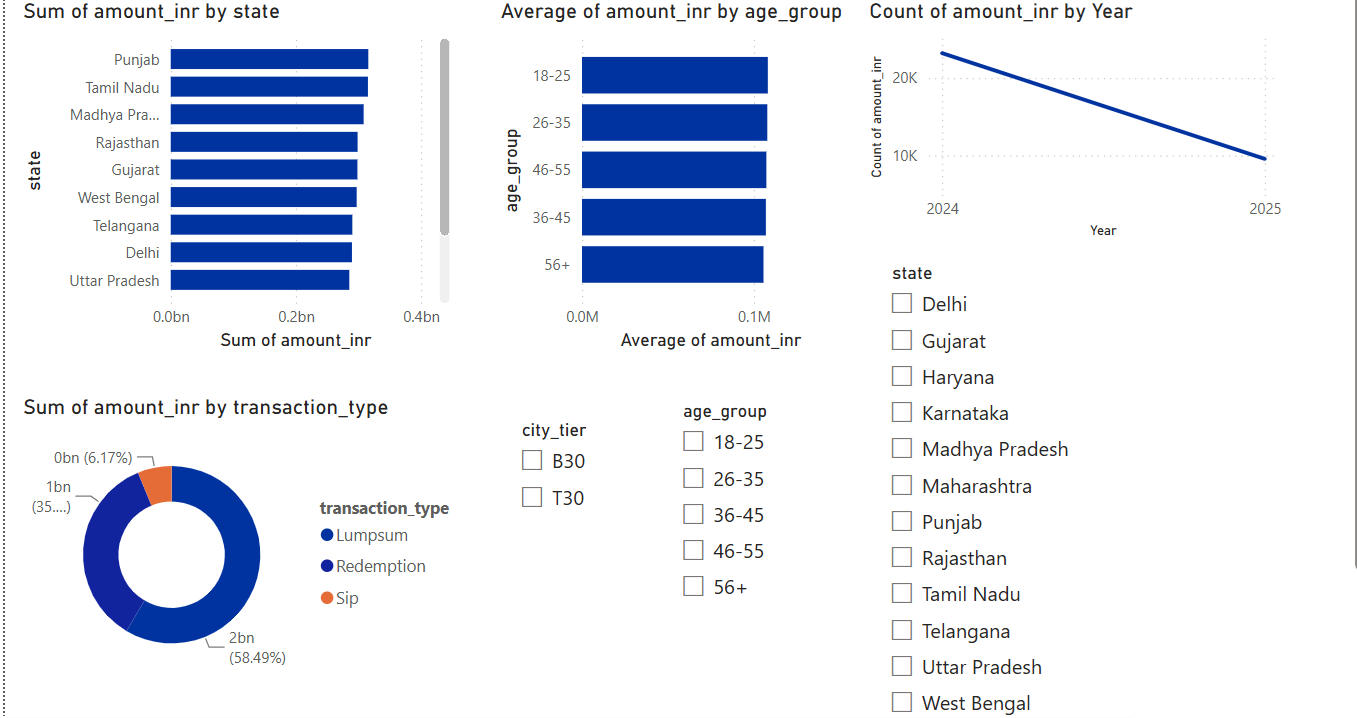

The page's visual inventory and layout, read from the dashboard file:
{"tool":"powerbi","page":{"name":"Investor Analytics","canvas":[1280,720],"ordinal":2},"visuals":[{"type":"clusteredBarChart","fields":{"Category":["investor_transactions_clean.state"],"Y":["Sum(investor_transactions_clean.amount_inr)"]},"box":[10,0,280,280],"z":0},{"type":"donutChart","fields":{"Category":["investor_transactions_clean.transaction_type"],"Y":["Sum(investor_transactions_clean.amount_inr)"]},"box":[10,290,280,280],"z":1},{"type":"clusteredBarChart","fields":{"Category":["investor_transactions_clean.age_group"],"Y":["Avg(investor_transactions_clean.amount_inr)"]},"box":[451.2,9.8,324.1,237.2],"z":2},{"type":"lineChart","fields":{"Category":["investor_transactions_clean.transaction_date.Variation.Date Hierarchy.Year","investor_transactions_clean.transaction_date.Variation.Date Hierarchy.Quarter","investor_transactions_clean.transaction_date.Variation.Date Hierarchy.Month","investor_transactions_clean.transaction_date.Variation.Date Hierarchy.Day"],"Y":["CountNonNull(investor_transactions_clean.amount_inr)"]},"box":[796.1,9.8,418.2,314.3],"z":3},{"type":"slicer","fields":{"Values":["investor_transactions_clean.state"]},"box":[392.5,324.1,280,150.4],"z":4},{"type":"slicer","fields":{"Values":["investor_transactions_clean.age_group"]},"box":[693.3,325.3,280,150.4],"z":5},{"type":"slicer","fields":{"Values":["investor_transactions_clean.city_tier"]},"box":[1000.3,324.1,280,150.4],"z":6}]}

Visuals, with their boxes on the page's 1280x720 design canvas (x1, y1, x2, y2). These are canvas units, not pixel positions in the 1357x718 screenshot, which may show the page scaled, cropped or inside an application window:
clusteredBarChart - investor_transactions_clean.state x Sum(investor_transactions_clean.amount_inr): crop(10, 0, 290, 280)
donutChart - investor_transactions_clean.transaction_type x Sum(investor_transactions_clean.amount_inr): crop(10, 290, 290, 570)
clusteredBarChart - investor_transactions_clean.age_group x Avg(investor_transactions_clean.amount_inr): crop(451, 10, 775, 247)
lineChart - investor_transactions_clean.transaction_date.Variation.Date Hierarchy.Year x investor_transactions_clean.transaction_date.Variation.Date Hierarchy.Quarter: crop(796, 10, 1214, 324)
slicer - investor_transactions_clean.state: crop(392, 324, 672, 474)
slicer - investor_transactions_clean.age_group: crop(693, 325, 973, 476)
slicer - investor_transactions_clean.city_tier: crop(1000, 324, 1280, 474)
